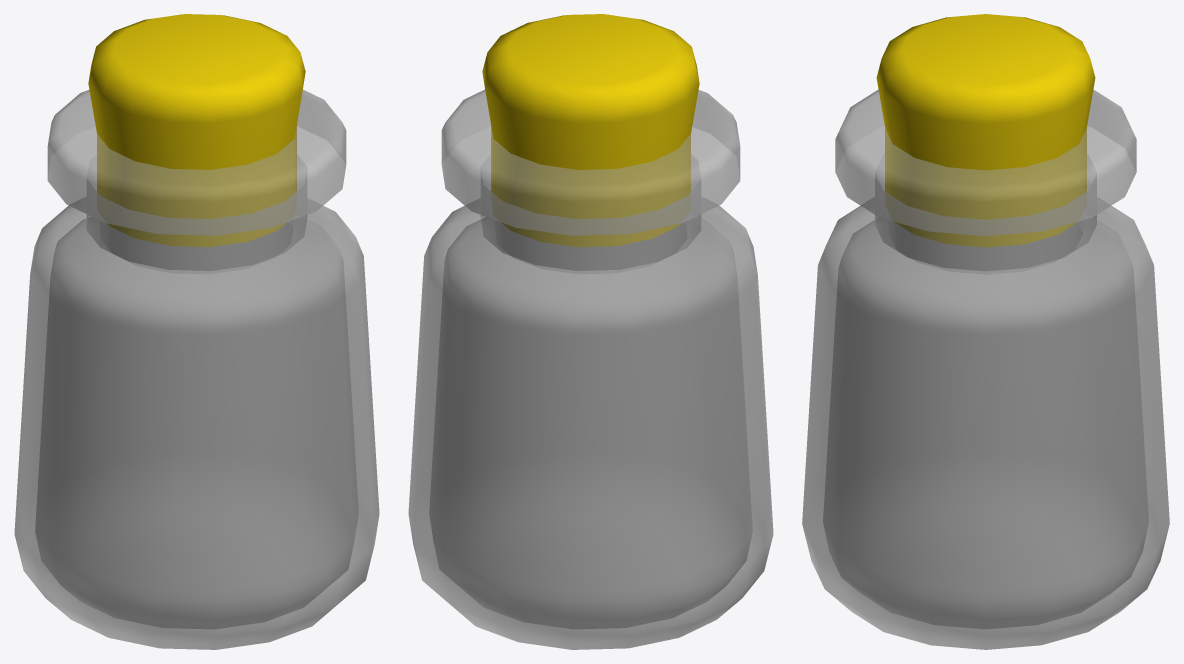
The model's file is Bottle.fbx.
3 renders of one model, left to right at view 1: azimuth 30°, elevation 25°; view 2: azimuth 150°, elevation 25°; view 3: azimuth 270°, elevation 25°, orthographic.
Visible parts, largest first — view 1: Bottle; view 2: Bottle; view 3: Bottle.
Part boxes in pixels (x1=…): Bottle: x1=14, y1=14, x2=379, y2=649; Bottle: x1=408, y1=14, x2=773, y2=649; Bottle: x1=802, y1=14, x2=1169, y2=649.
Size of the model in its own units: 9.75 by 9.75 by 16.08.
